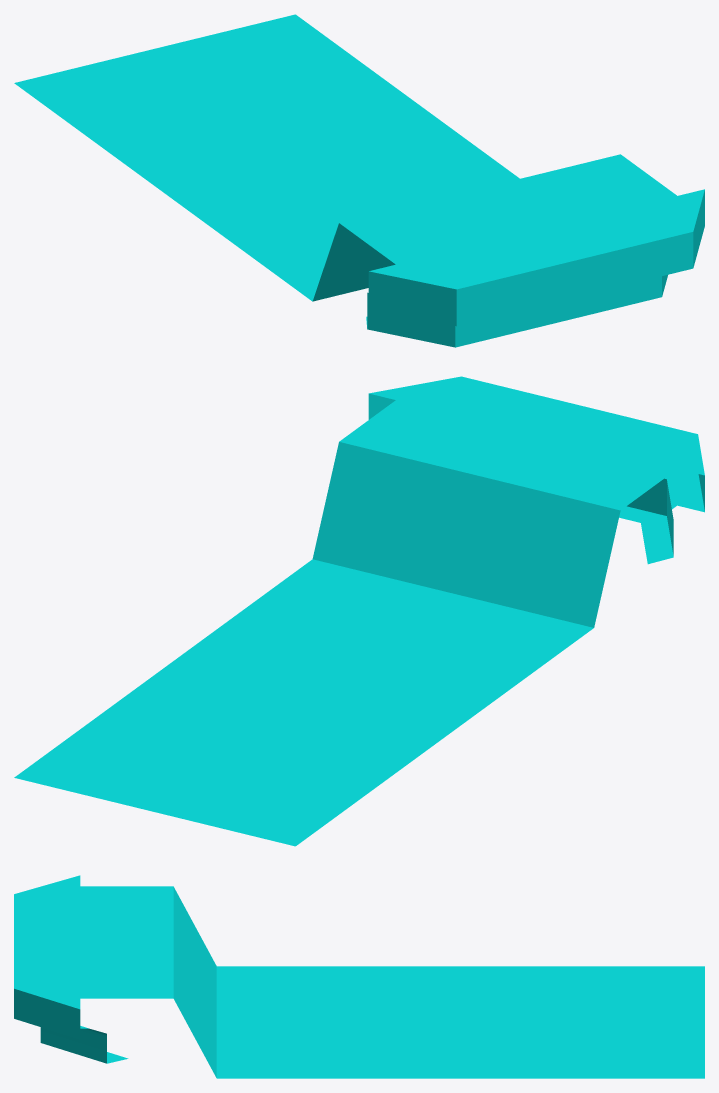
File: Rooftop_Column.fbx
3 renders of one model, top to bottom at view 1: azimuth 30°, elevation 25°; view 2: azimuth 150°, elevation 25°; view 3: azimuth 270°, elevation 25°, orthographic. The views are drawn at different scales.
Visible parts, largest first — view 1: Build_1_Rooftop_Middle; view 2: Build_1_Rooftop_Middle; view 3: Build_1_Rooftop_Middle.
Part boxes in pixels (bbox=[...]): Build_1_Rooftop_Middle: bbox=[14, 14, 704, 347]; Build_1_Rooftop_Middle: bbox=[14, 376, 704, 846]; Build_1_Rooftop_Middle: bbox=[14, 875, 704, 1078].
Size of the model in its own units: 143 by 312 by 39.93.
